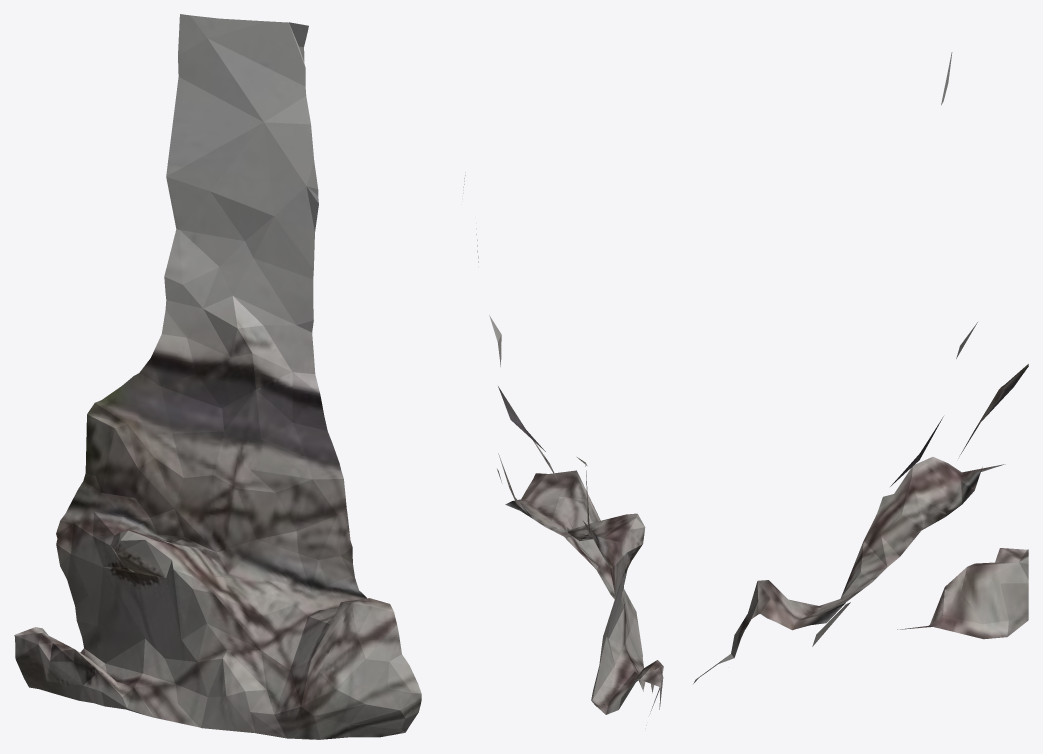
3 renders of one model, left to right at view 1: azimuth 30°, elevation 25°; view 2: azimuth 150°, elevation 25°; view 3: azimuth 270°, elevation 25°, orthographic. The views are drawn at different scales.
Bounding box in the file's own units: 0.3446 × 0.8374 × 0.3743.
Materials: 1 (1 with a texture image).
